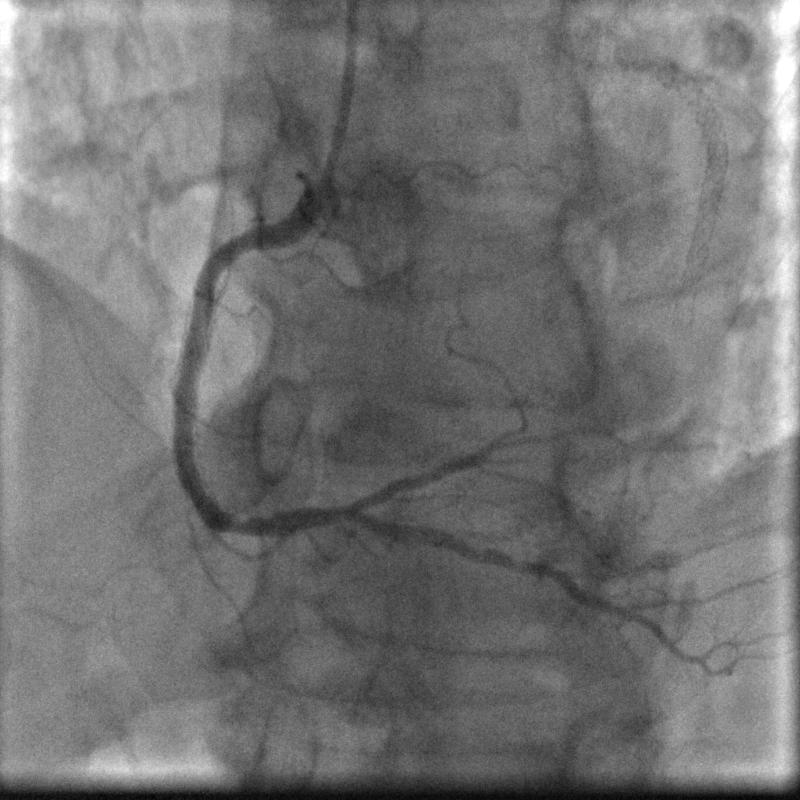Stenosis: (213, 231, 264, 263)
